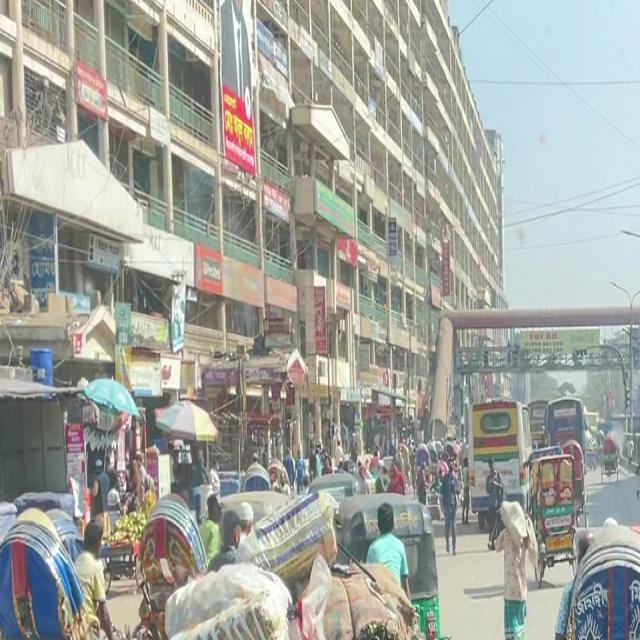bus: (463, 394, 531, 535)
